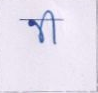i_matra: (45, 9, 59, 44)
